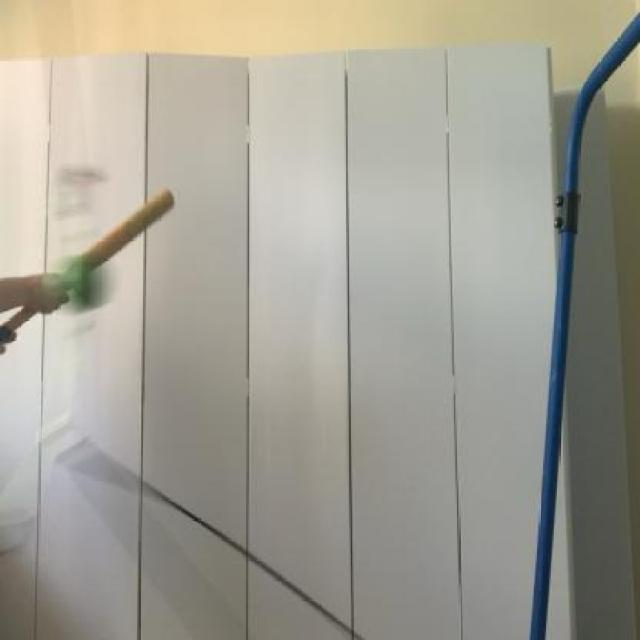baseball: (54, 244, 117, 313)
